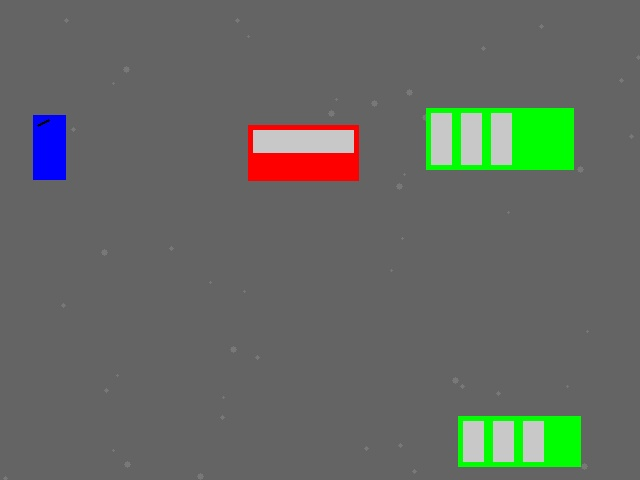bus: (426, 108, 573, 169), (458, 416, 580, 466)
car: (248, 125, 358, 180)
motorcycle: (33, 115, 65, 179)
